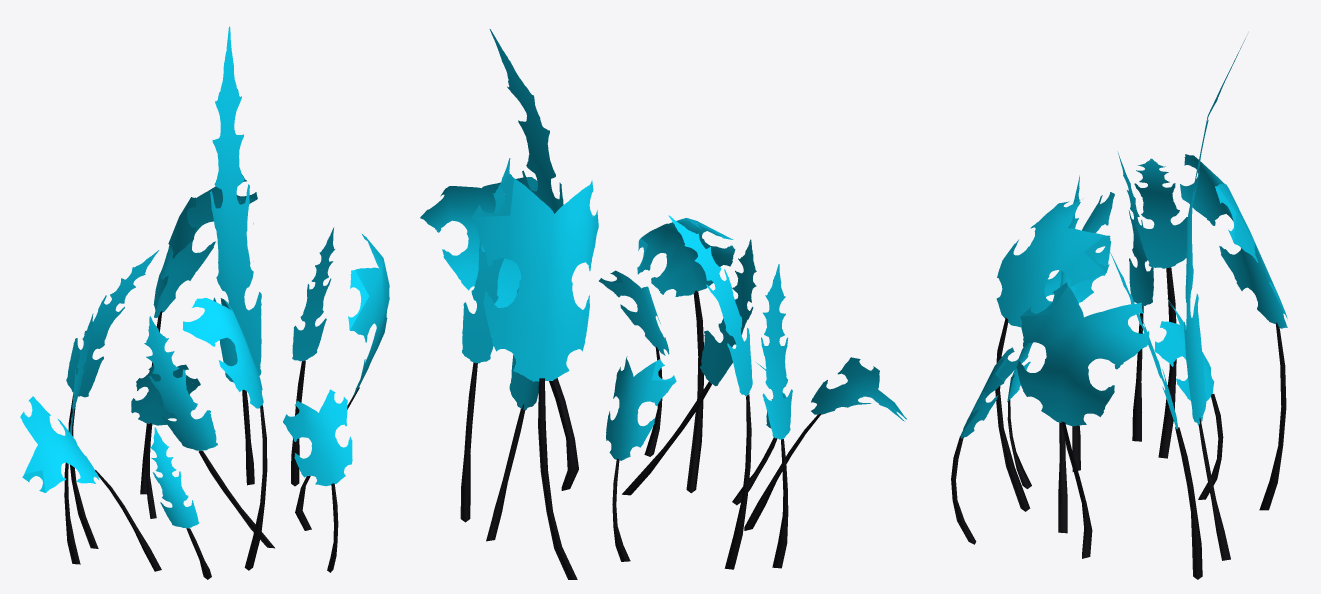
Rendered from MSH_PlantaAzul001.fbx.
The picture shows the model from 3 angles, left to right: view 1: azimuth 30°, elevation 25°; view 2: azimuth 150°, elevation 25°; view 3: azimuth 270°, elevation 25°; orthographic projection. The views are drawn at different scales.
Parts seen in each view (by area): view 1: MHS_PlantaAzul001; view 2: MHS_PlantaAzul001; view 3: MHS_PlantaAzul001.
Boxes of the visible parts, x1=… form: MHS_PlantaAzul001: x1=20, y1=26, x2=389, y2=579; MHS_PlantaAzul001: x1=420, y1=29, x2=906, y2=579; MHS_PlantaAzul001: x1=951, y1=38, x2=1287, y2=579.
Size of the model in its own units: 207 by 224 by 138.
Materials: 3 (2 with a texture image).
